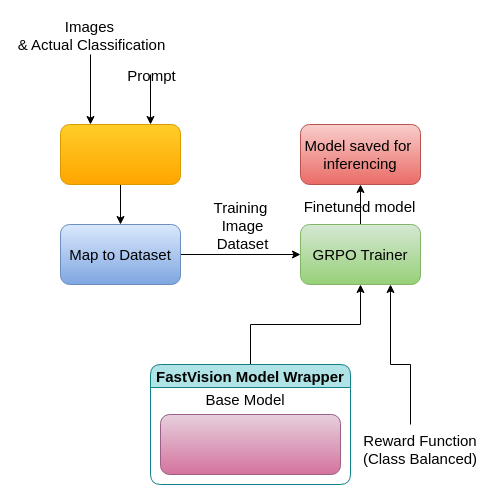
Some shapes in this 495 by 502 pixel diagram are drawn without their labels. Each missing label, with the centre of its shape:
"Convert to Conversation Format For VLM" belongs at point (120, 154).
"Qwen3-VL-8B-Instruct-unsloth-bnb-4bit" belongs at point (250, 444).
